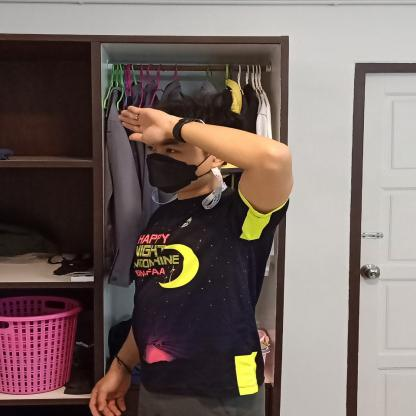Sick: (110, 101, 300, 200)
